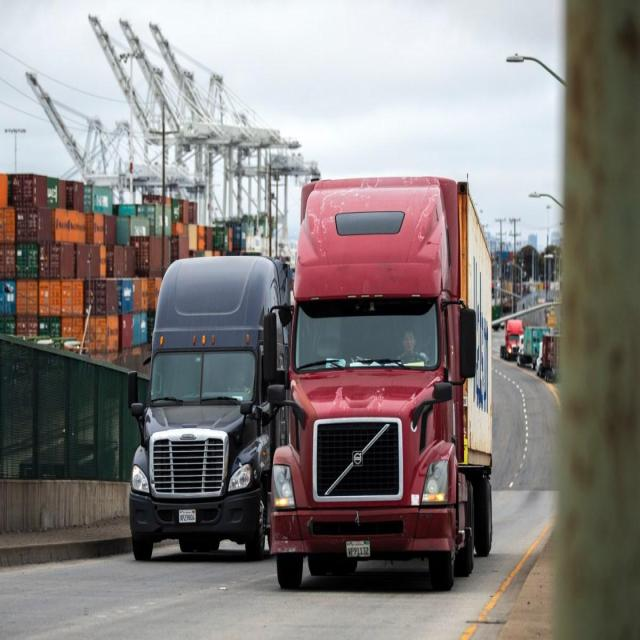truck ahead at: (272, 177, 498, 591), (132, 255, 274, 550)
